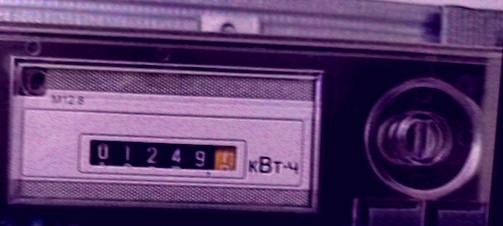0: (94, 142, 109, 163)
1: (119, 144, 131, 164)
2: (143, 146, 158, 167)
4: (168, 147, 181, 167)
7: (216, 146, 230, 166)
9: (191, 149, 206, 171)
screen: (67, 127, 245, 186)
